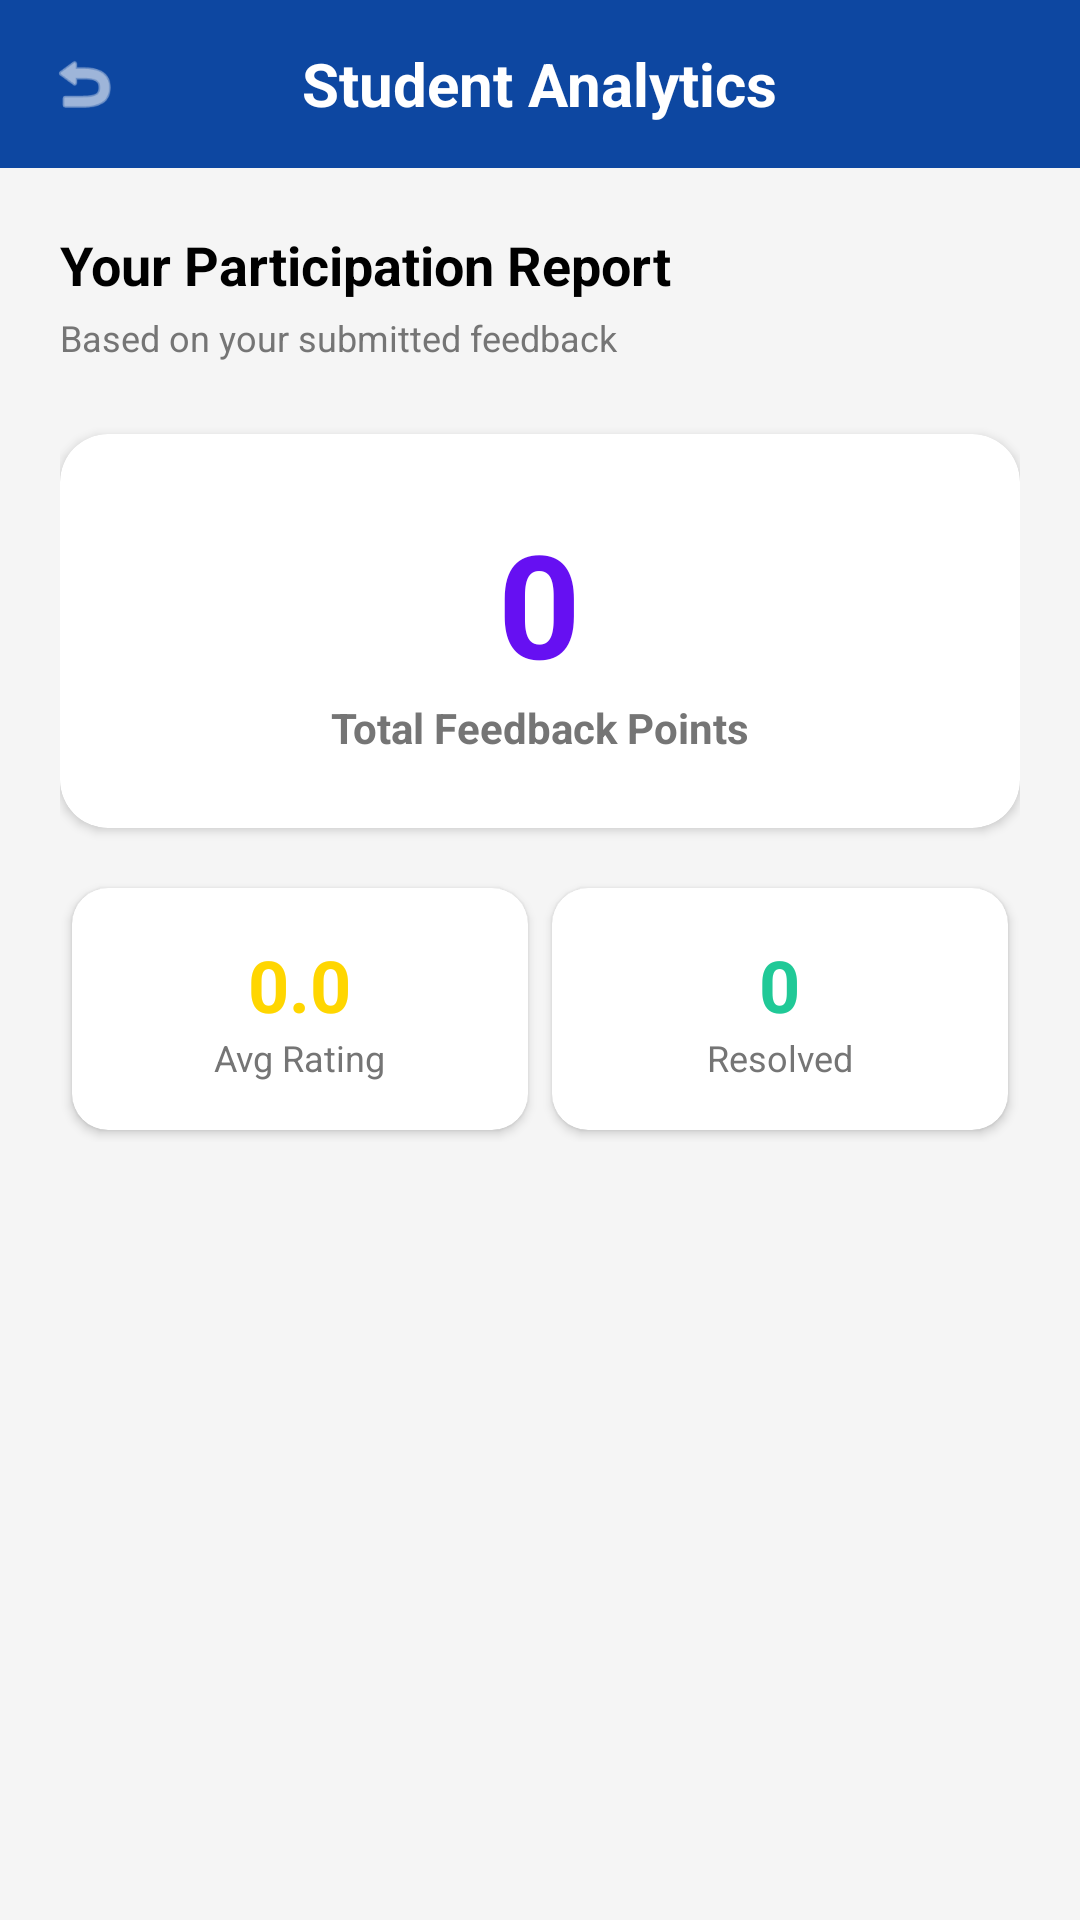

Named icons in this screenshot (1080x1920) and their centers, point (x, y):
Back: point (85, 84)
